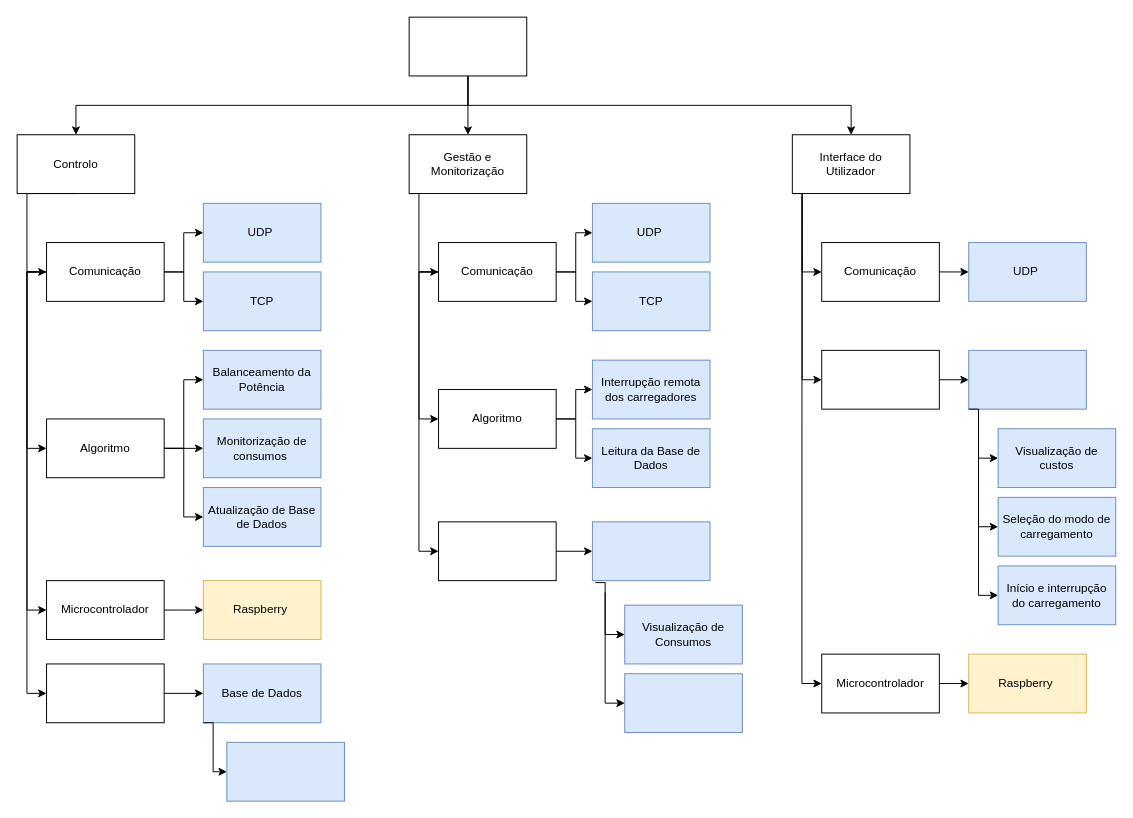
Image size: 1133x818. Some labels were removed from this diagram. The box of each missing label's shape, as (x1, y1, x2, y2) in pixels:
Armazenamento: (46, 663, 164, 723)
Controlo remoto de carregadores: (624, 673, 742, 733)
Interação com o Operador: (438, 521, 556, 581)
Interação com o Utilizador: (821, 349, 939, 409)
Interface Local / App: (968, 349, 1086, 409)
Interface Web: (591, 521, 710, 581)
Sistema: (408, 16, 527, 76)
SQL: (226, 741, 344, 801)
